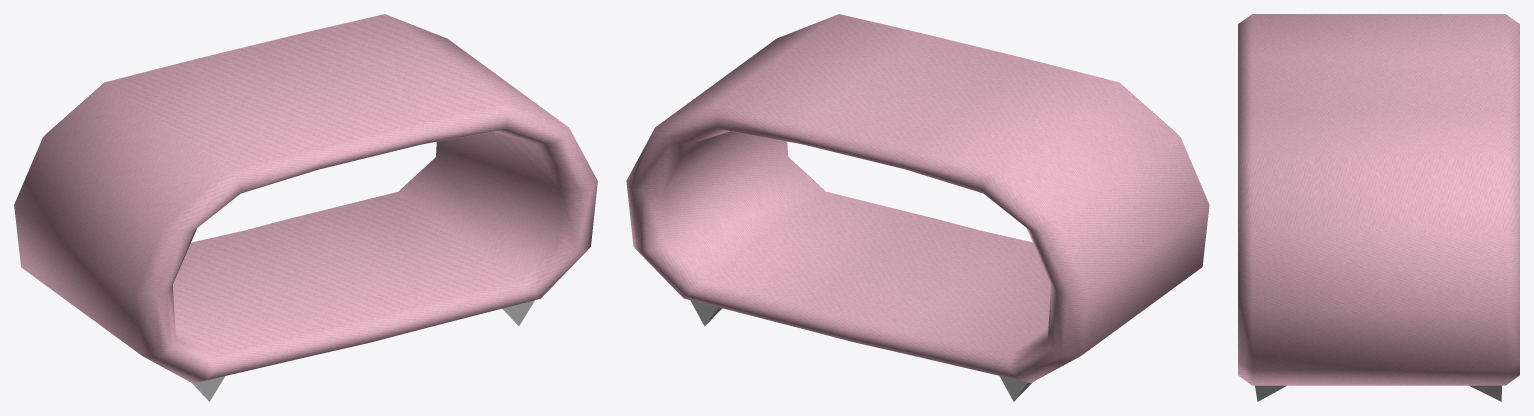
File: Open_Stool_D2.FBX
3 renders of one model, left to right at view 1: azimuth 30°, elevation 25°; view 2: azimuth 150°, elevation 25°; view 3: azimuth 270°, elevation 25°, orthographic. The views are drawn at different scales.
Visible parts, largest first — view 1: Stool_01; view 2: Stool_01; view 3: Stool_01.
Part boxes in pixels (x1=…): Stool_01: x1=14, y1=14, x2=597, y2=401; Stool_01: x1=626, y1=14, x2=1209, y2=401; Stool_01: x1=1238, y1=14, x2=1519, y2=401.
Bounding box in the file's own units: 172 × 81.63 × 87.07.
